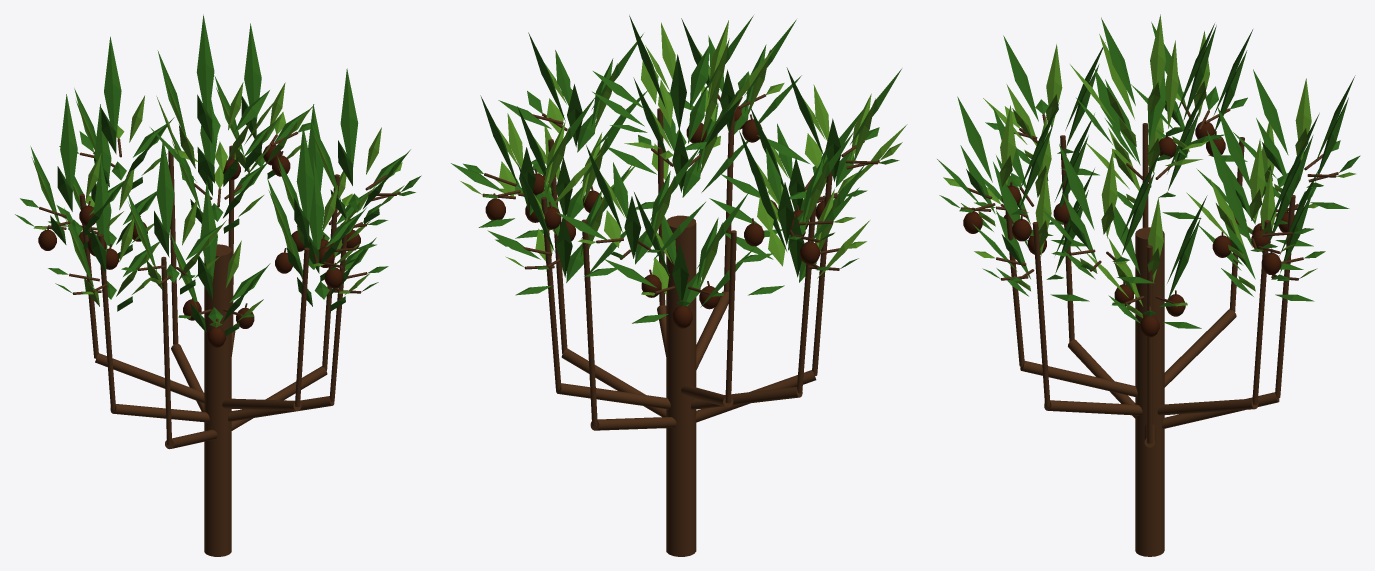
Rendered from Naspolyafa.obj.
3 renders of one model, left to right at view 1: azimuth 30°, elevation 25°; view 2: azimuth 150°, elevation 25°; view 3: azimuth 270°, elevation 25°, orthographic. The views are drawn at different scales.
Size of the model in its own units: 2.78 by 3.86 by 2.76.
